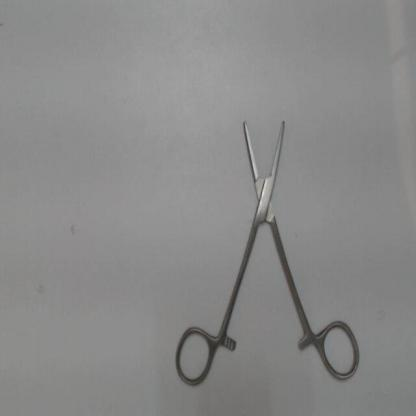Mayo Needle Holder: (169, 106, 362, 386)
